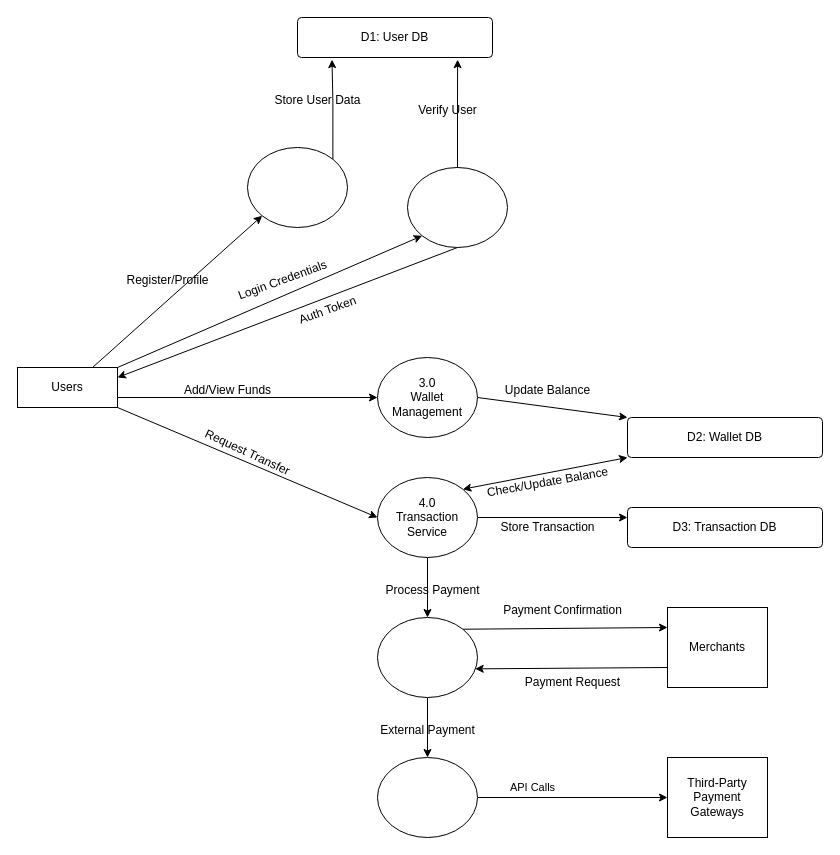
Image size: 840x855. Some labels were removed from this diagram. The shapes that lost their labels are listed below. From the top down, each one's centre as x and y in pixels, then its label:
At (297,187): "1.0 User Management".
At (457,207): "2.0 Authentication Service".
At (427,657): "5.0 Payment Processing".
At (427,797): "6.0 Gateway Integration".
